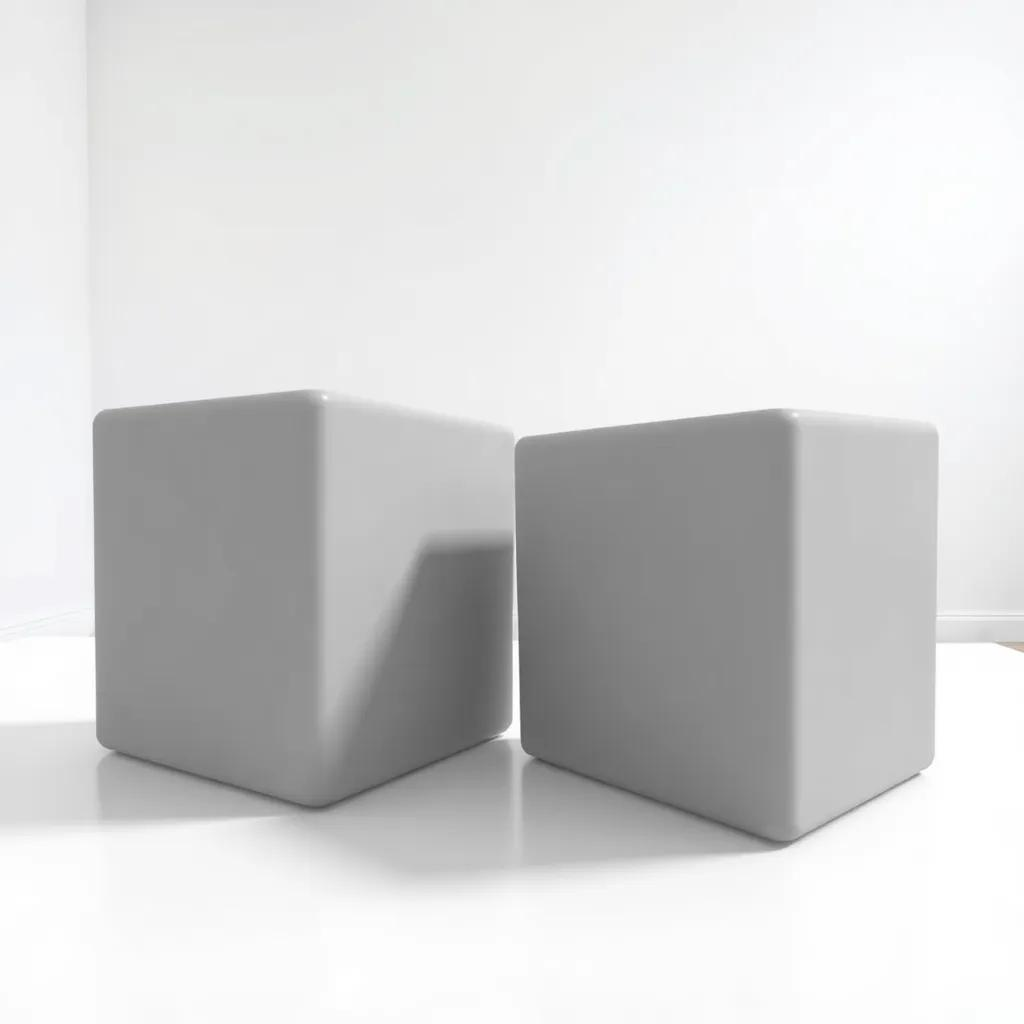cube: (514, 405, 938, 843), (91, 386, 515, 809)
